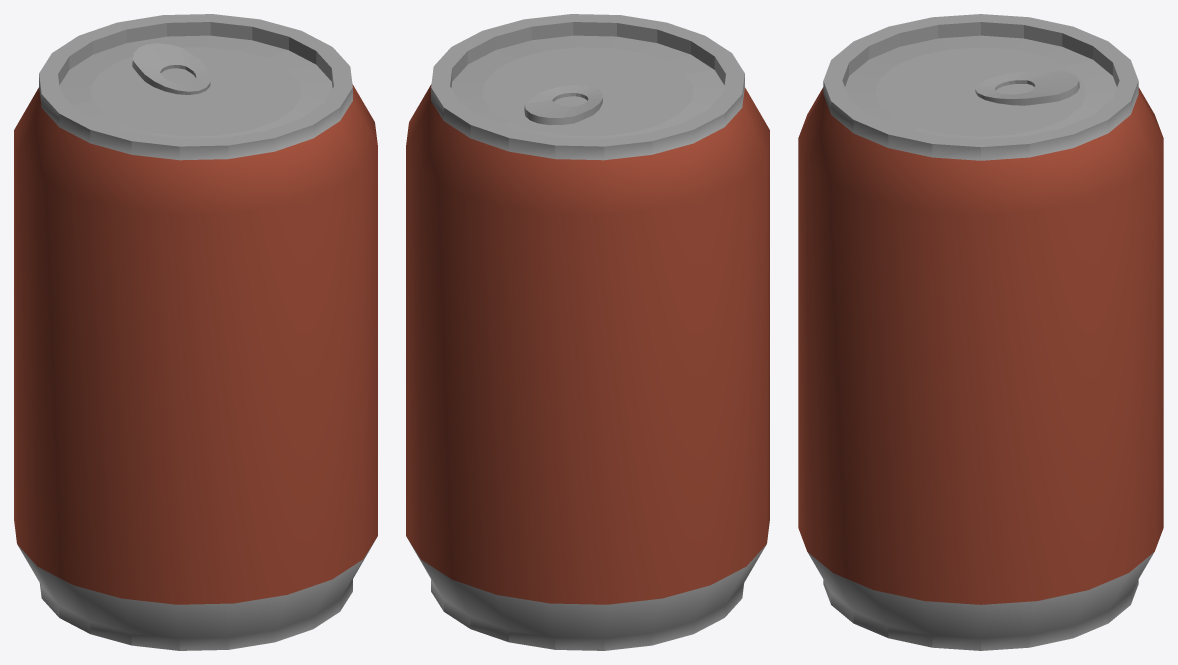
The model's file is DRINK CAN red.fbx.
The picture shows the model from 3 angles, left to right: view 1: azimuth 30°, elevation 25°; view 2: azimuth 150°, elevation 25°; view 3: azimuth 270°, elevation 25°; orthographic projection.
Visible parts, largest first — view 1: pCylinder1, pCylinder2; view 2: pCylinder1, pCylinder2; view 3: pCylinder1, pCylinder2.
Part boxes in pixels (x1,y1,x2,y2): pCylinder1: [14, 14, 377, 650]; pCylinder2: [132, 43, 210, 94]; pCylinder1: [406, 14, 769, 650]; pCylinder2: [524, 85, 602, 125]; pCylinder1: [798, 14, 1163, 650]; pCylinder2: [975, 70, 1079, 105].
Bounding box in the file's own units: 0.02 × 0.0304 × 0.02.
